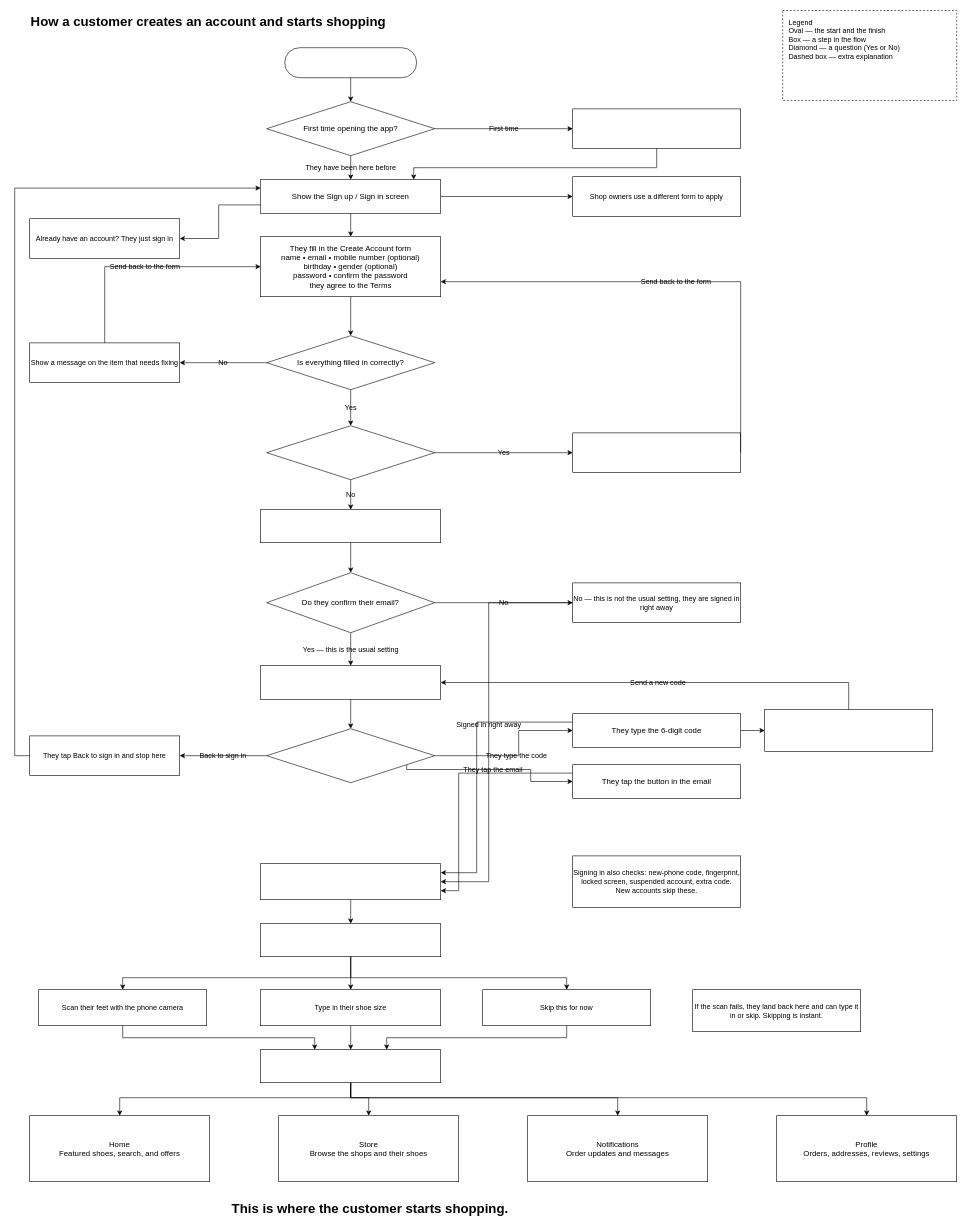
This 967x1228 diagram has some shape labels left out. Each missing label, with the centre of its shape:
Account confirmed — the customer is signed in: point 350,881
Create the account: point 350,526
Customer opens the app: point 350,62
How do they confirm it?: point 350,755
Is this email already used?: point 350,452
Optional step: add their foot size: point 350,940
Show the 3 welcome slides — they can skip them: point 656,128
Tell them this email is already registered: point 656,452
The code is wrong or has expired — show an error, then let them send a new one: point 848,730
They land on the Home screen: point 350,1066
We email them a 6-digit code: point 350,682
